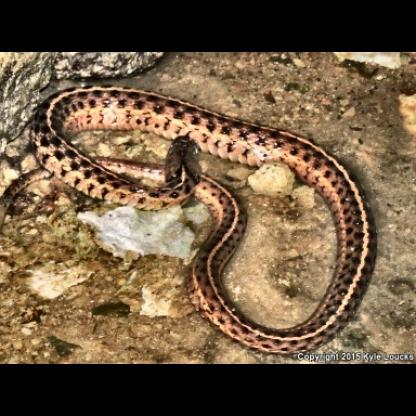Snake: (24, 84, 375, 353)
